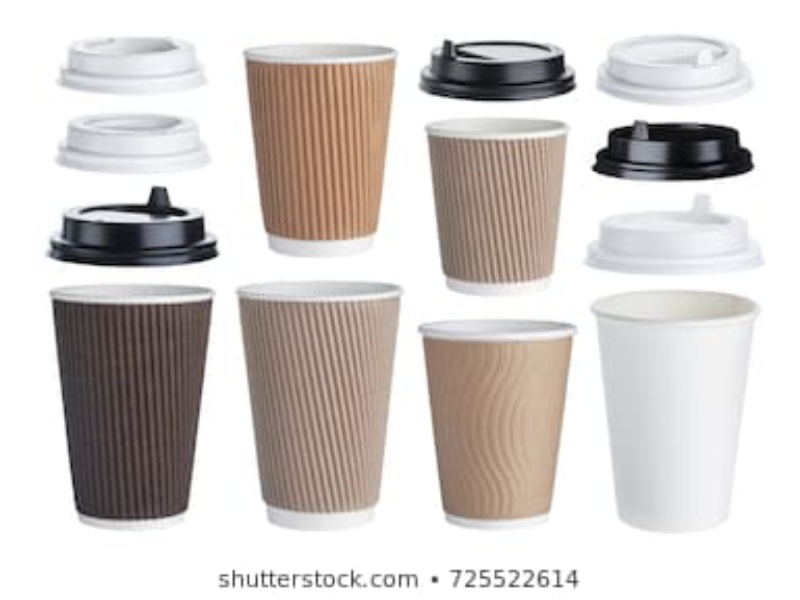coffee-lid: (44, 183, 223, 267), (584, 190, 763, 273), (592, 31, 757, 105), (416, 36, 580, 101), (53, 110, 217, 174), (592, 120, 757, 183), (52, 33, 209, 96)
plastic-cup: (591, 290, 765, 535), (234, 280, 401, 533), (46, 282, 215, 532), (415, 316, 579, 534), (242, 39, 396, 257), (418, 115, 576, 298)
